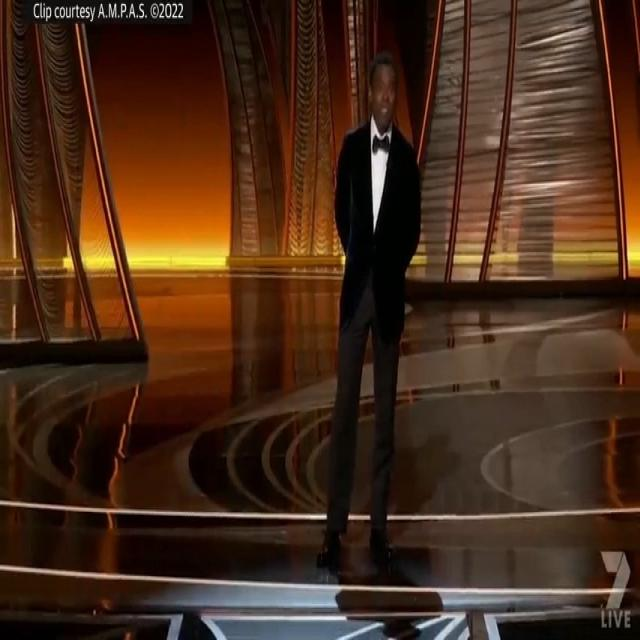non-fight: (297, 38, 425, 600)
